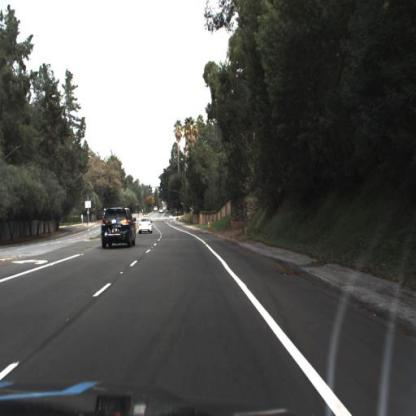car: (102, 206, 137, 250), (140, 213, 154, 237)
